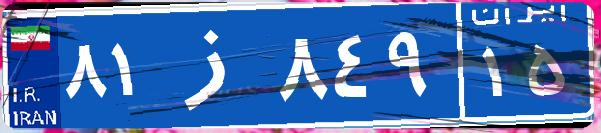1: (475, 38, 525, 113), (110, 28, 158, 105)
4: (330, 28, 385, 110)
5: (525, 38, 570, 115)
8: (273, 28, 330, 110), (57, 26, 110, 107)
9: (385, 28, 445, 110)
ز: (158, 15, 273, 115)
